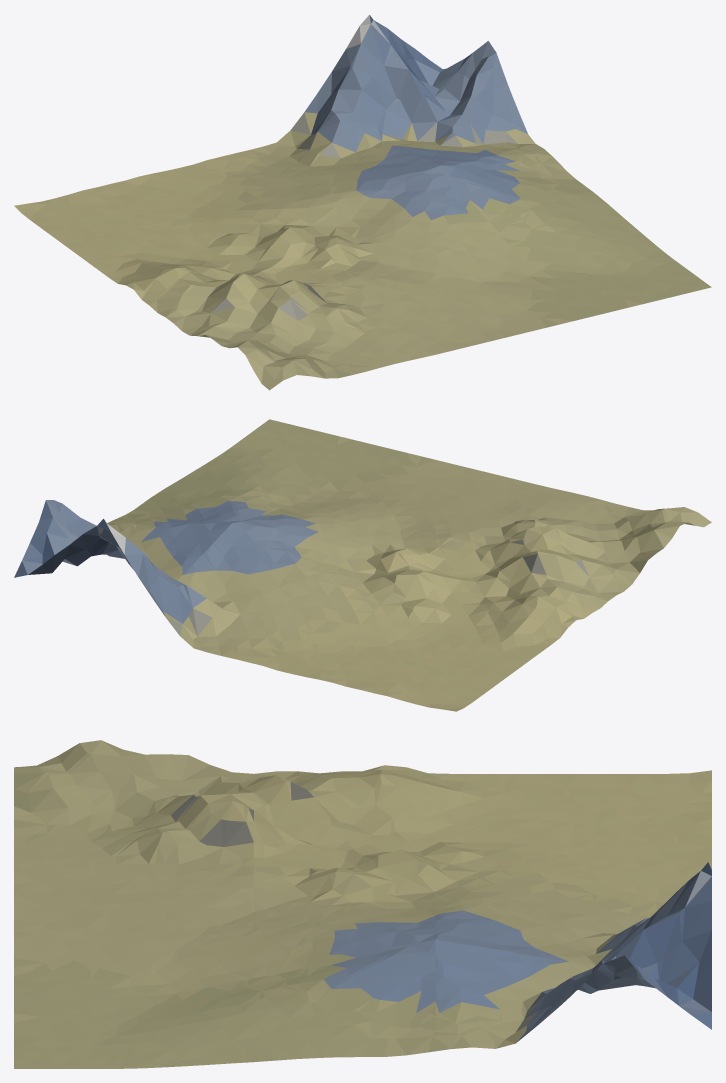
The model's file is Ground_0_-3.glb.
3 renders of one model, top to bottom at view 1: azimuth 30°, elevation 25°; view 2: azimuth 150°, elevation 25°; view 3: azimuth 270°, elevation 25°, orthographic. The views are drawn at different scales.
Parts seen in each view (by area): view 1: Ground_0_-3; view 2: Ground_0_-3; view 3: Ground_0_-3.
Boxes of the visible parts, x1,y1,x2,y2 form: Ground_0_-3: (14, 15, 711, 390); Ground_0_-3: (14, 419, 711, 711); Ground_0_-3: (14, 740, 711, 1068).
Size of the model in its own units: 768 by 180 by 768.
